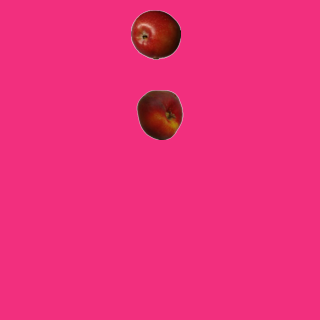Apple Braeburn: (130, 9, 180, 59)
Nectarine Flat: (134, 89, 184, 139)
